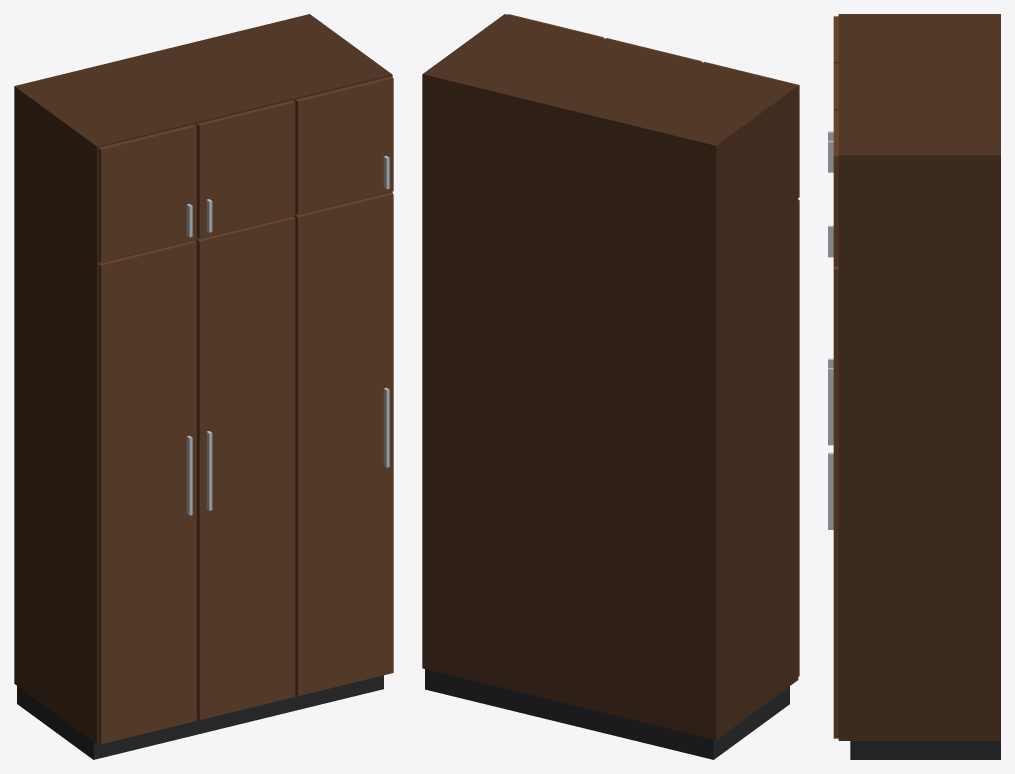
File: gardirop-1200-ceviz.glb
3 renders of one model, left to right at view 1: azimuth 30°, elevation 25°; view 2: azimuth 150°, elevation 25°; view 3: azimuth 270°, elevation 25°, orthographic. The views are drawn at different scales.
Parts seen in each view (by area): view 1: mobilya; view 2: mobilya; view 3: mobilya.
Boxes of the visible parts, x1,y1,x2,y2 form: mobilya: (14,14,393,759); mobilya: (422,14,799,759); mobilya: (828,14,1000,759).
Size of the model in its own units: 1.2 by 2.4 by 0.62.
